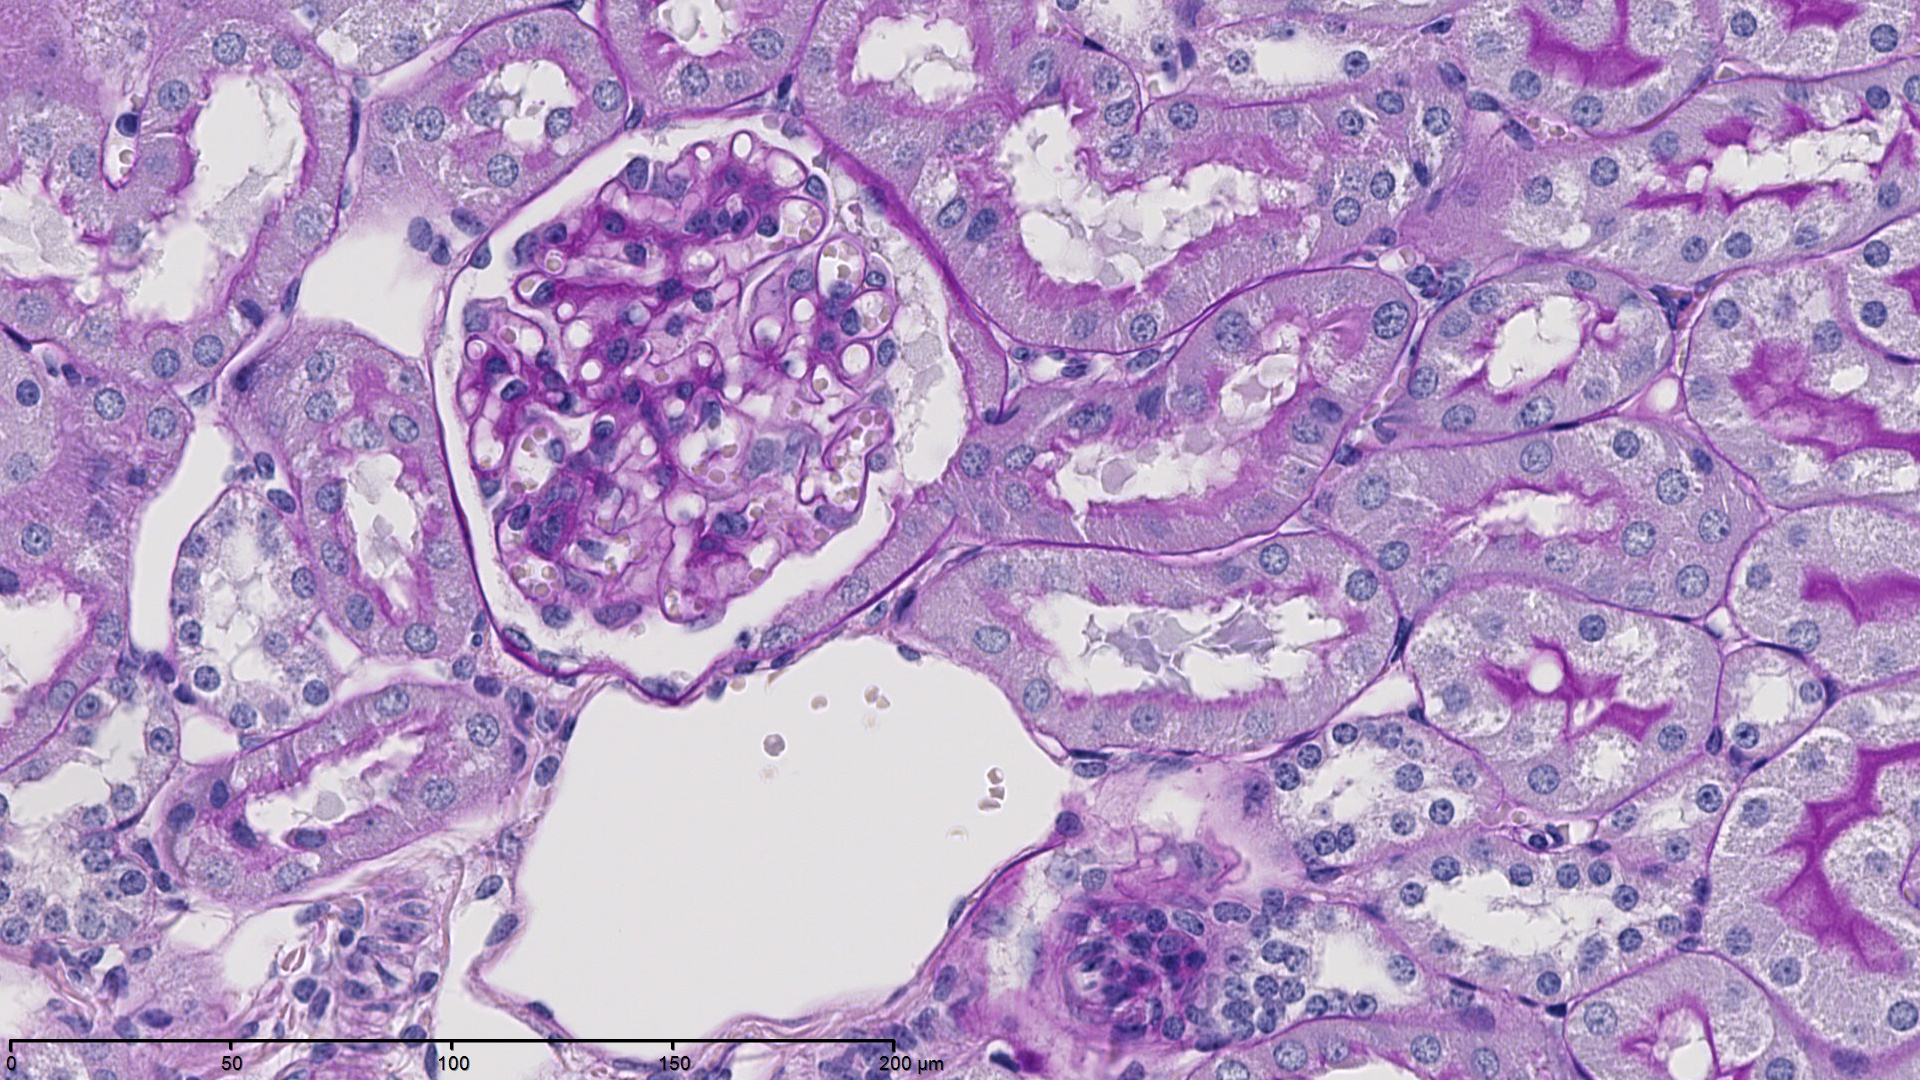Glomeruli: (429, 124, 930, 636)
